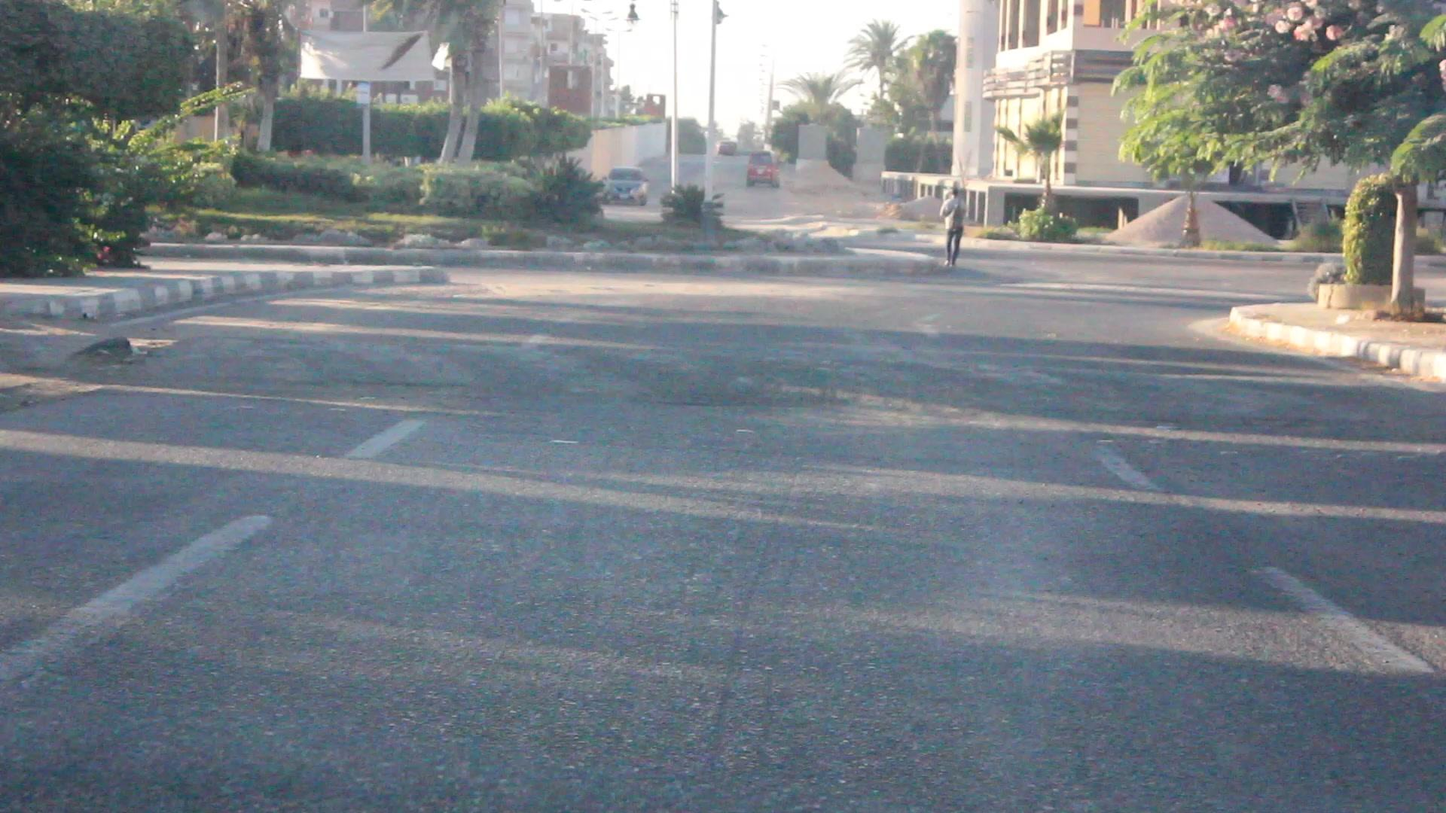Bump: (168, 333, 1446, 442)
